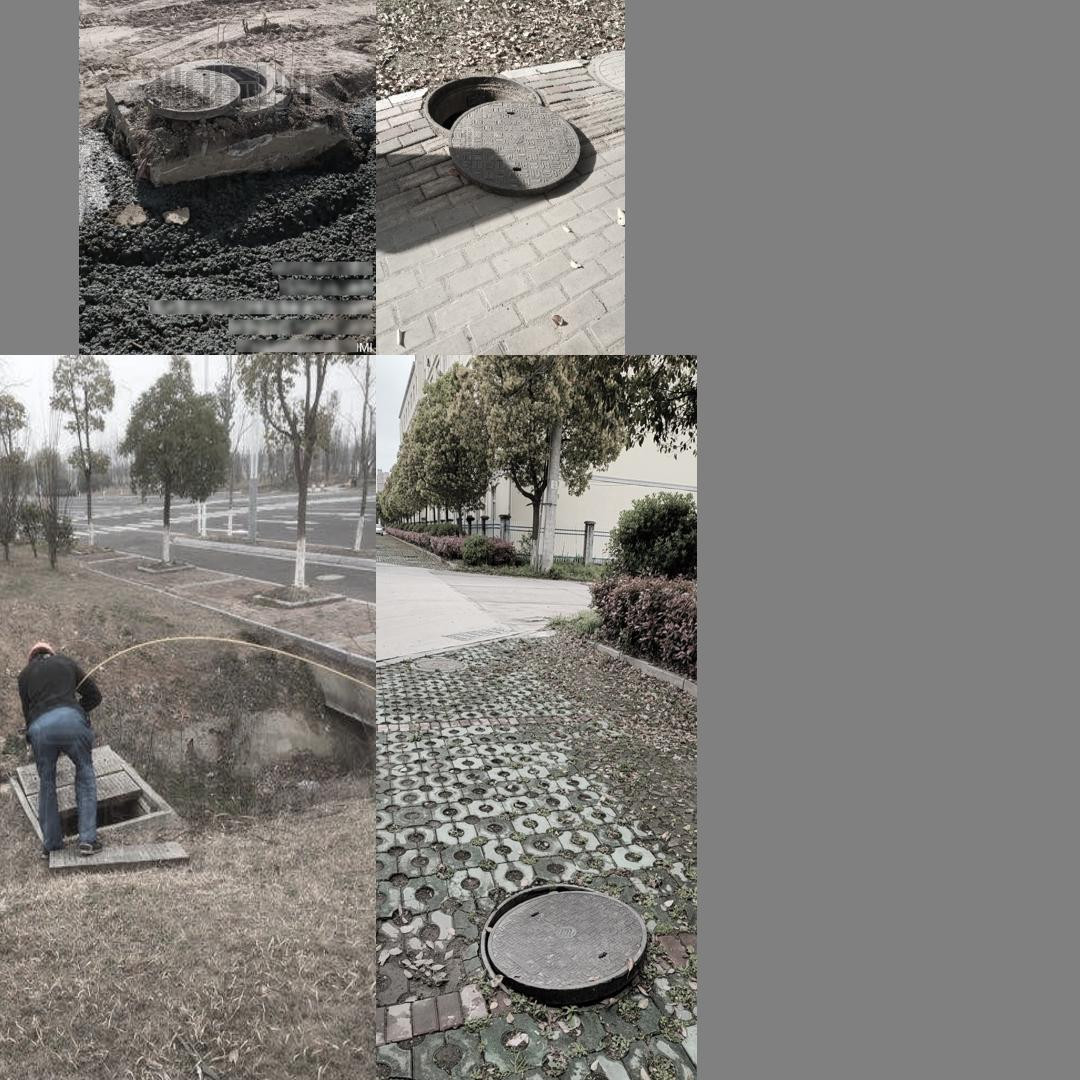uncovered: (8, 739, 187, 871), (412, 55, 584, 189), (481, 887, 647, 1012), (143, 58, 291, 121)
